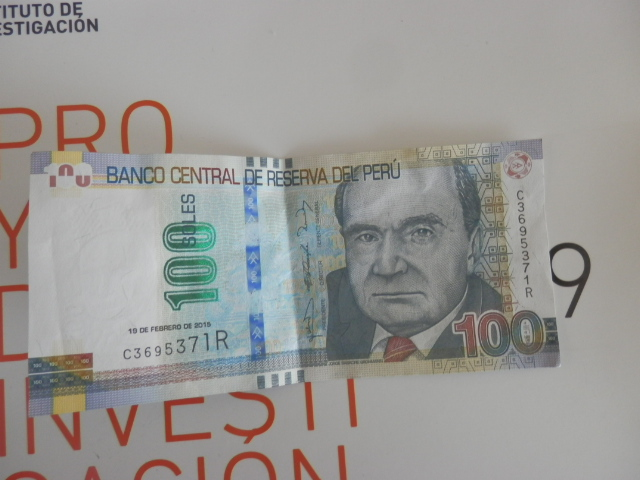B100: (25, 149, 559, 409)
